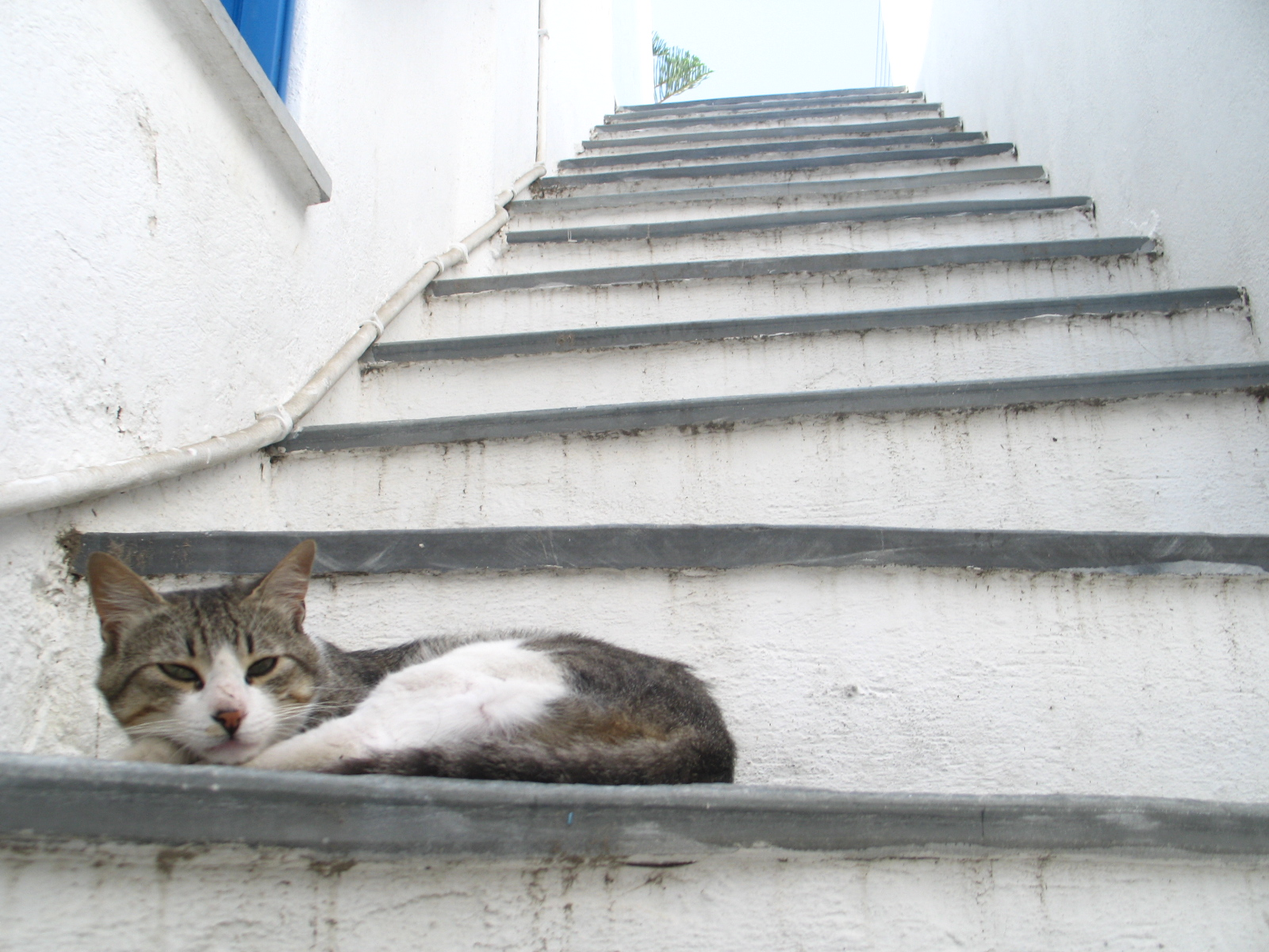cat: (95, 536, 736, 788)
